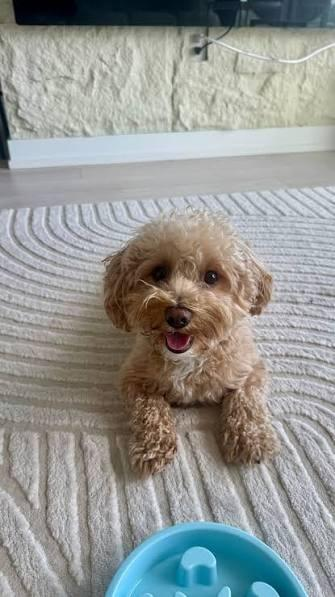adult_dog: (101, 215, 283, 477)
